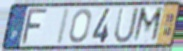4: (91, 6, 111, 45)
F: (19, 7, 50, 46)
I: (54, 7, 72, 46)
M: (130, 6, 165, 45)
O: (68, 7, 92, 44)
U: (112, 6, 140, 45)
